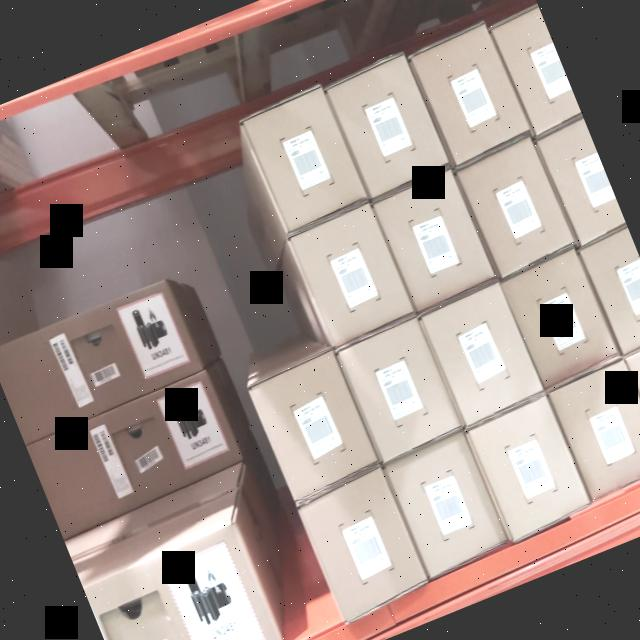box: (248, 349, 379, 501), (241, 85, 366, 232), (336, 318, 462, 462), (420, 283, 544, 427), (384, 434, 509, 574), (300, 474, 426, 612), (326, 56, 448, 198), (372, 172, 496, 308), (290, 208, 414, 344), (466, 399, 588, 535), (410, 23, 528, 162), (502, 250, 618, 387), (456, 138, 574, 272), (549, 360, 640, 497)
